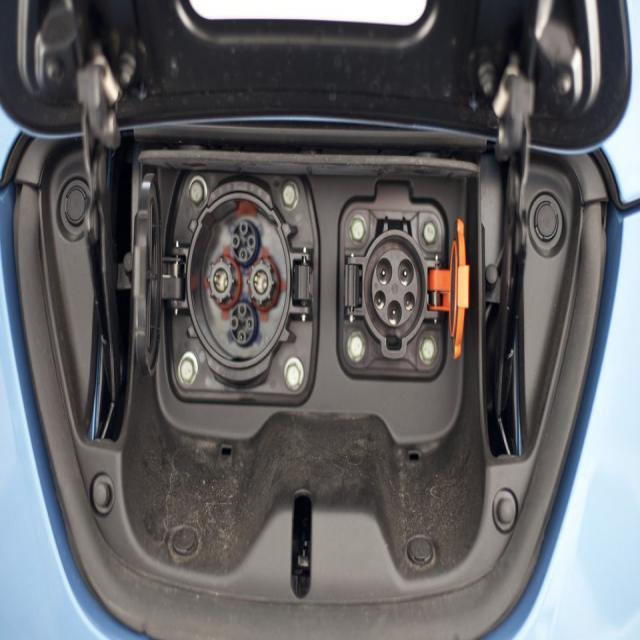CHAdeMO: (153, 178, 320, 398)
